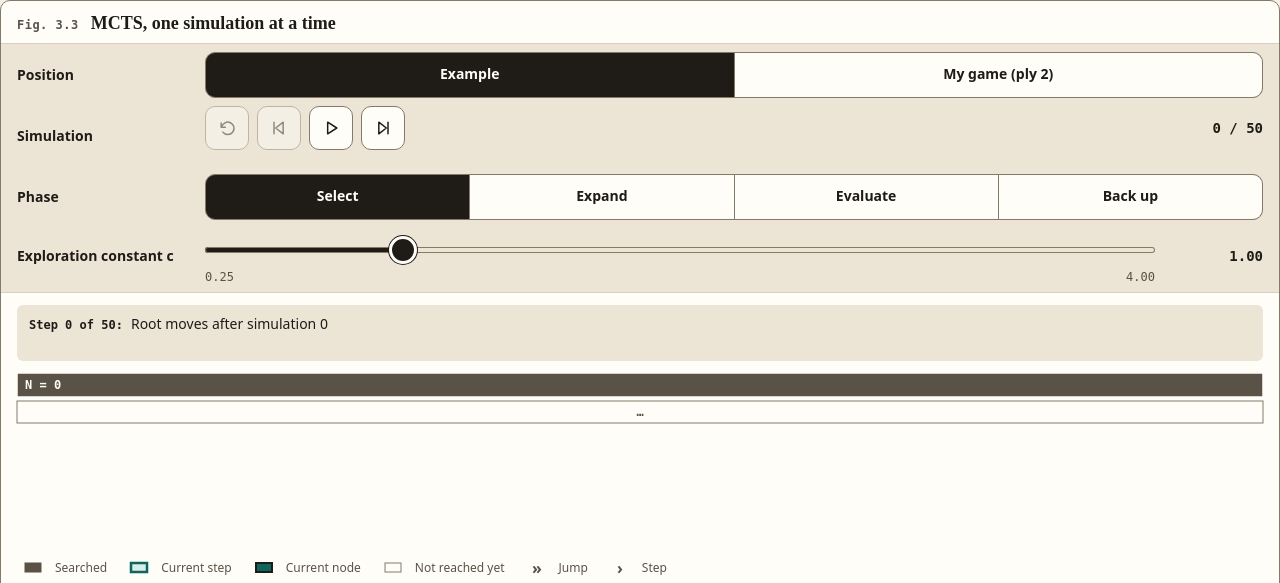
Scenario: V10 live › stepping back shows the table after fewer simulations: the visits at step 4 add up to 4
Click the radio button labelled "My game (ply 2)" at (998, 75), box [734, 53, 1262, 97]
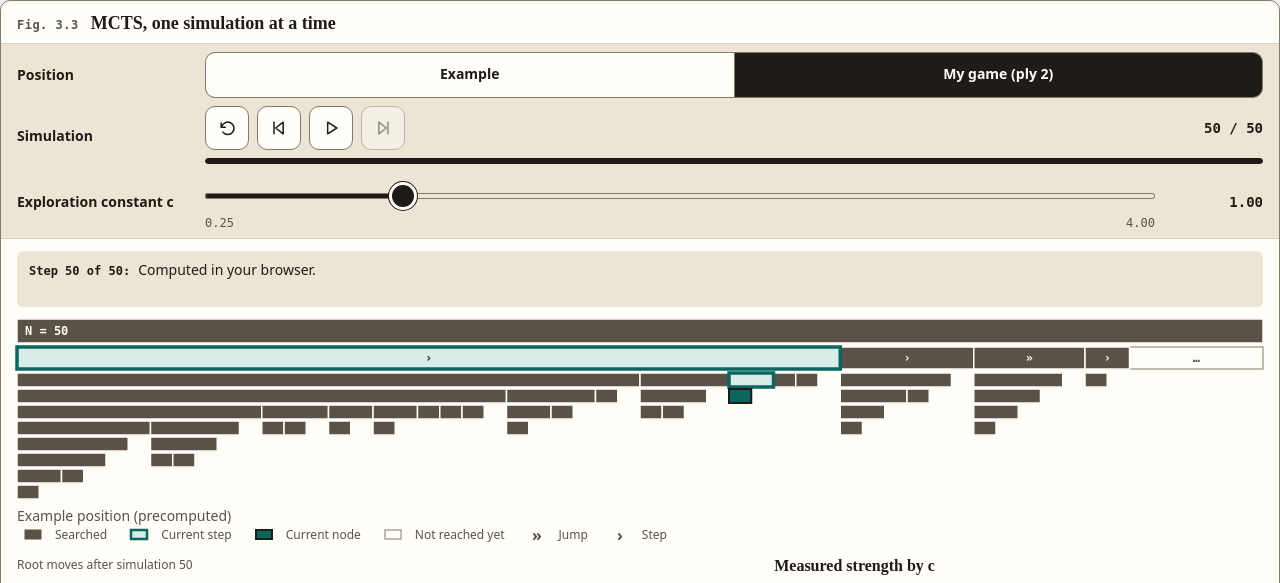
Click the button named "Back to the start" at (227, 128), box [205, 106, 249, 150]
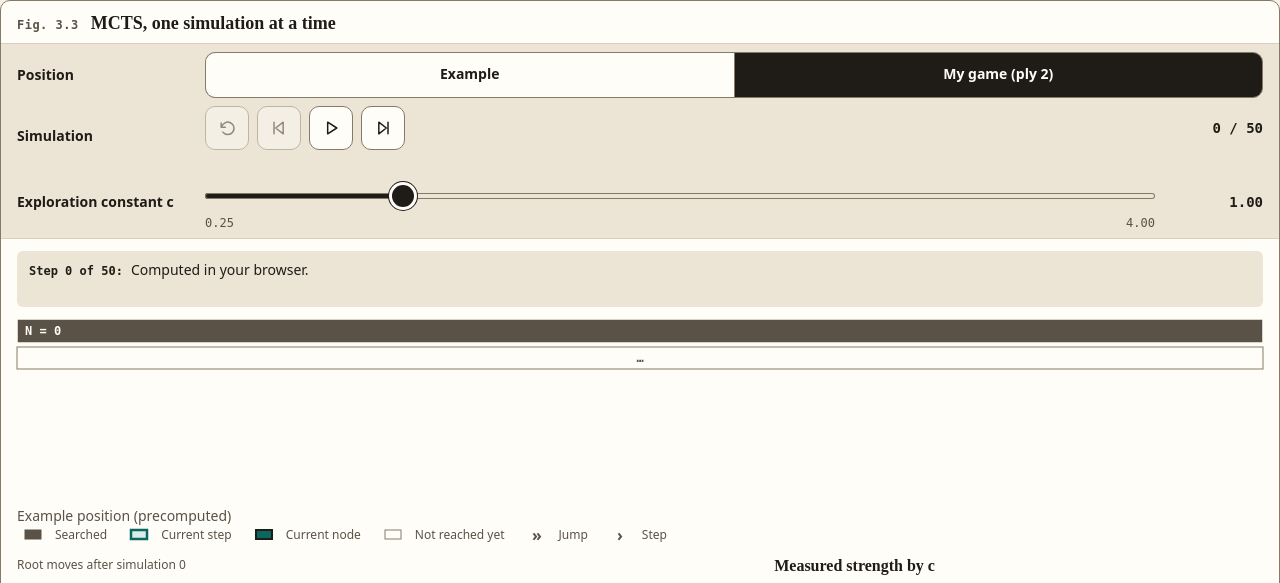
Click the button named "One step forward" at (383, 128), box [361, 106, 405, 150]
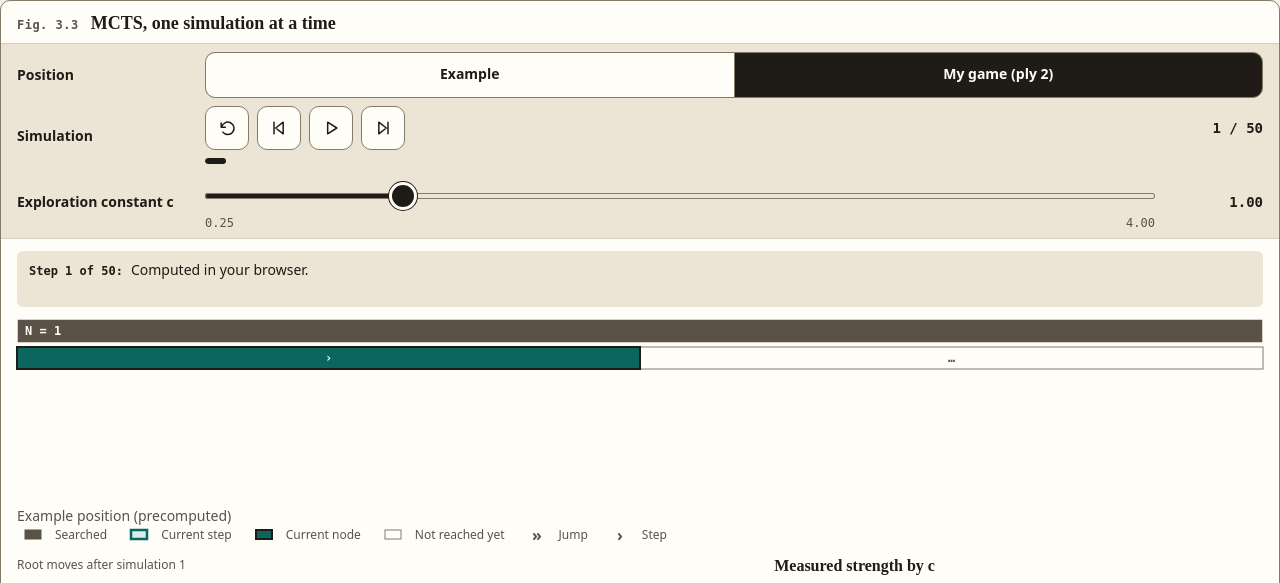
Click the button named "One step forward" at (383, 128), box [361, 106, 405, 150]
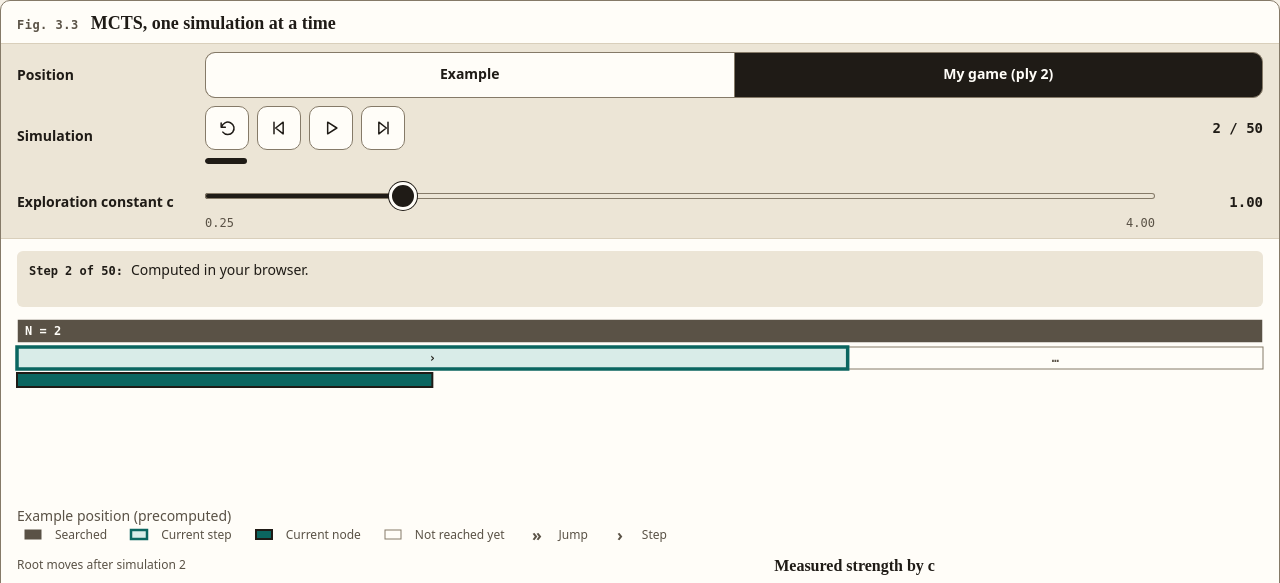
Click the button named "One step forward" at (383, 128), box [361, 106, 405, 150]
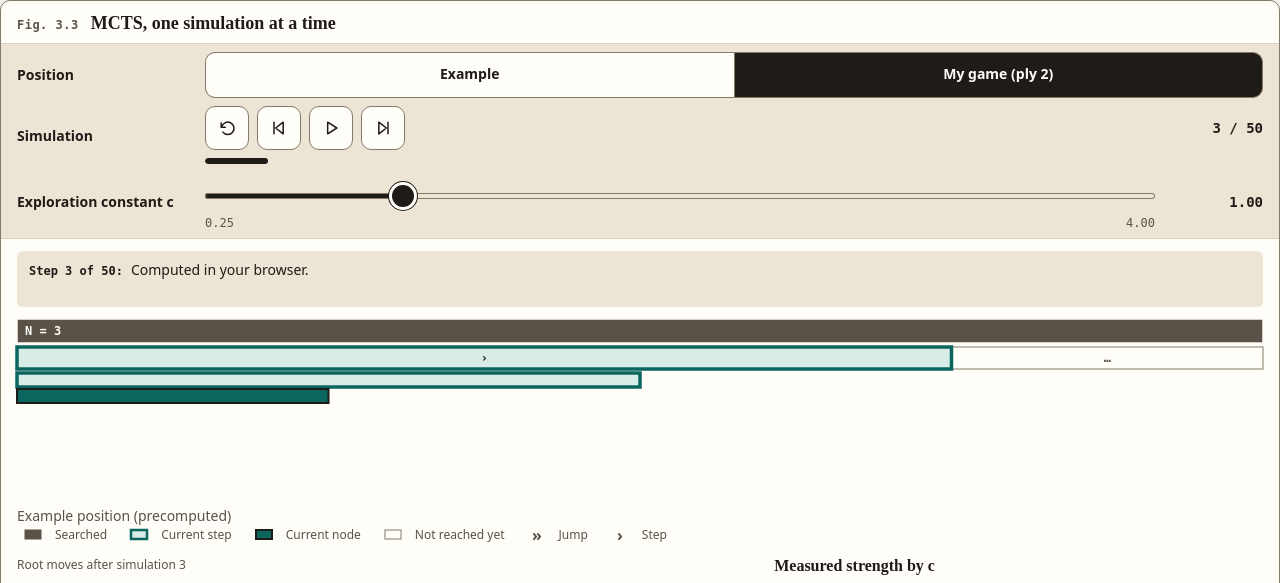
Click the button named "One step forward" at (383, 128), box [361, 106, 405, 150]
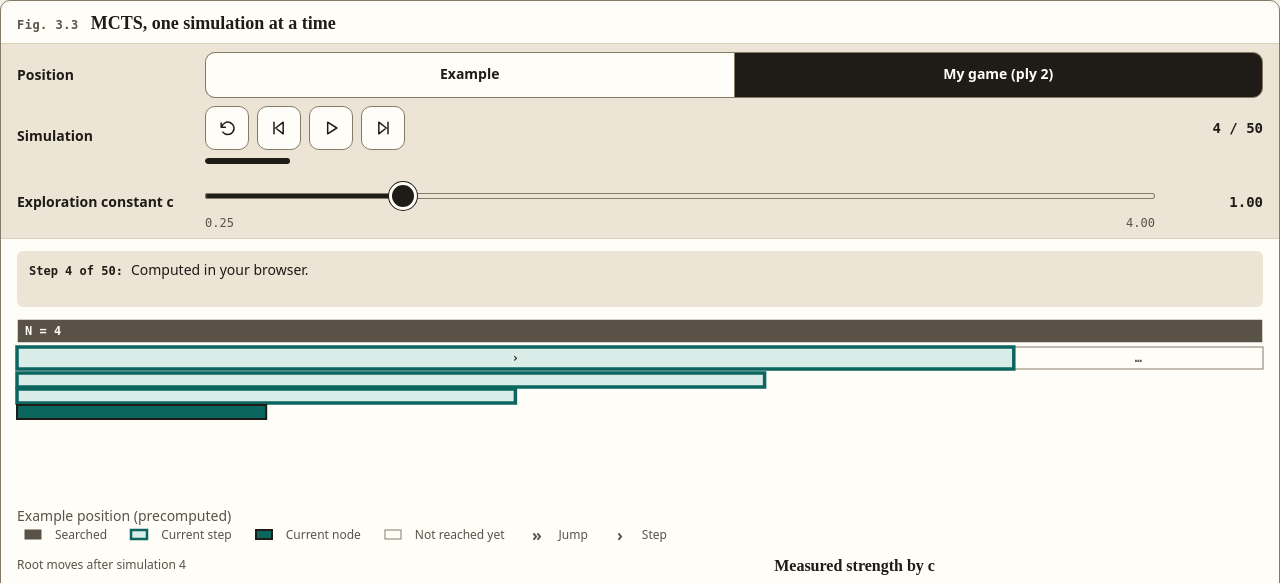
expect the element with class "ml-fig-stepper__pos" reads "4 / 50": met, box [1212, 120, 1263, 136]
